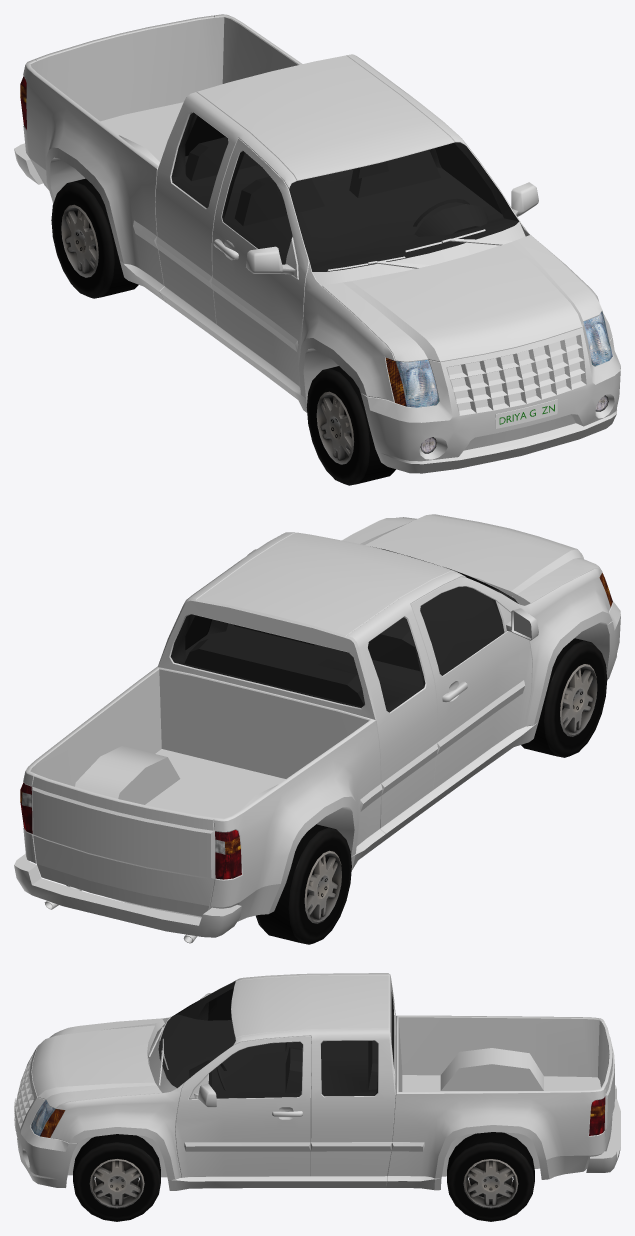
The model's file is bakkie.glb.
The picture shows the model from 3 angles, top to bottom: view 1: azimuth 30°, elevation 25°; view 2: azimuth 150°, elevation 25°; view 3: azimuth 270°, elevation 25°; orthographic projection. The views are drawn at different scales.
Parts seen in each view (by area): view 1: Pickup Body, Wheel_E002, Wheel_E003, plate_01_plate_0_plate_0.001; view 2: Pickup Body, Wheel_E003, Wheel_E002; view 3: Pickup Body, Wheel_E001, Wheel_E.
Part boxes in pixels (left/top/right/bottom): Pickup Body: left=14, top=14, right=620, bottom=473; Wheel_E002: left=306, top=366, right=395, bottom=485; Wheel_E003: left=51, top=178, right=138, bottom=298; plate_01_plate_0_plate_0.001: left=495, top=399, right=557, bottom=428; Pickup Body: left=14, top=514, right=620, bottom=943; Wheel_E003: left=256, top=824, right=351, bottom=944; Wheel_E002: left=521, top=638, right=607, bottom=757; Pickup Body: left=15, top=973, right=620, bottom=1190; Wheel_E001: left=447, top=1132, right=534, bottom=1221; Wheel_E: left=73, top=1134, right=160, bottom=1221.
Bounding box in the file's own units: 2.96 × 2.43 × 7.41.
6 materials, 2 textured.
